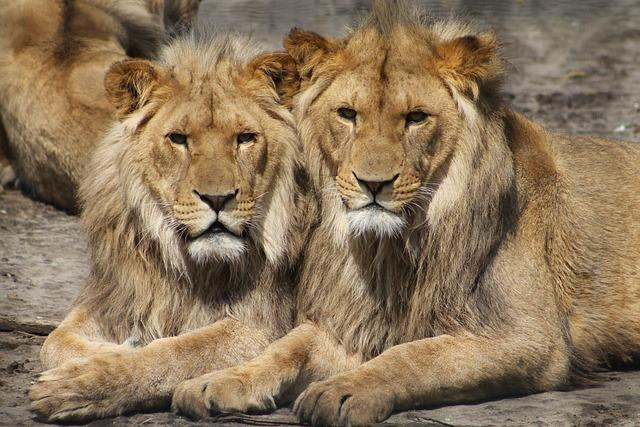Non_Gorille: (44, 5, 604, 401)
